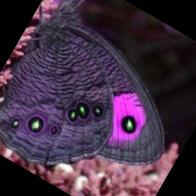butterfly: (0, 0, 163, 166)
